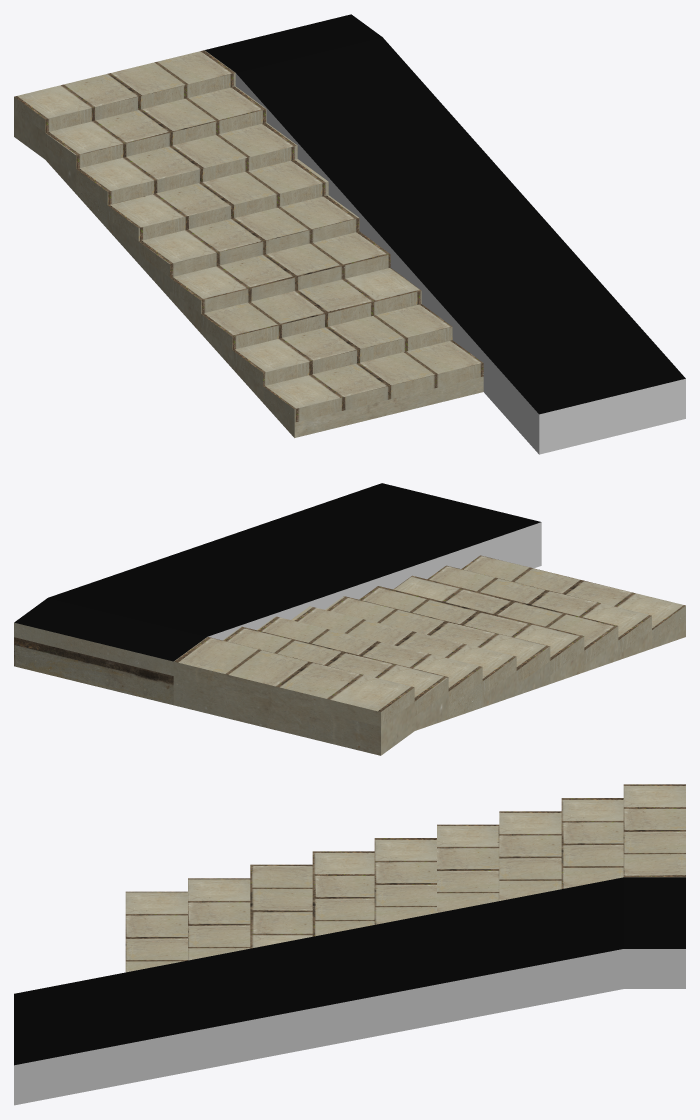
Rendered from Stairs.fbx.
3 renders of one model, top to bottom at view 1: azimuth 30°, elevation 25°; view 2: azimuth 150°, elevation 25°; view 3: azimuth 270°, elevation 25°, orthographic. The views are drawn at different scales.
Visible parts, largest first — view 1: Main Stair; view 2: Main Stair; view 3: Main Stair.
Boxes of the visible parts, <box> form: Main Stair: <box>14,14,685,454</box>; Main Stair: <box>14,483,685,755</box>; Main Stair: <box>14,784,685,1105</box>.
Size of the model in its own units: 439 by 196 by 758.
